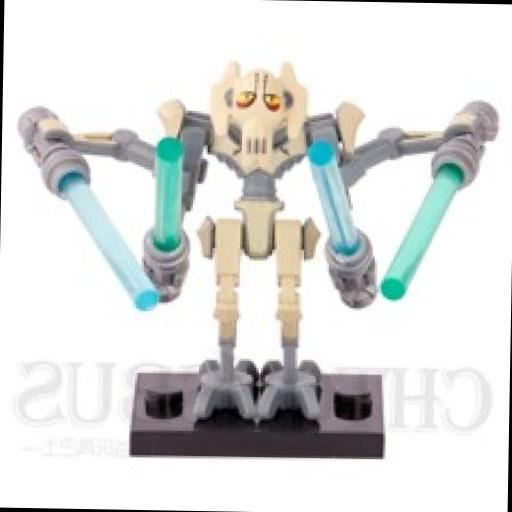lightsaber: (16, 104, 164, 308), (380, 100, 504, 308), (306, 136, 381, 308), (134, 138, 192, 304)
